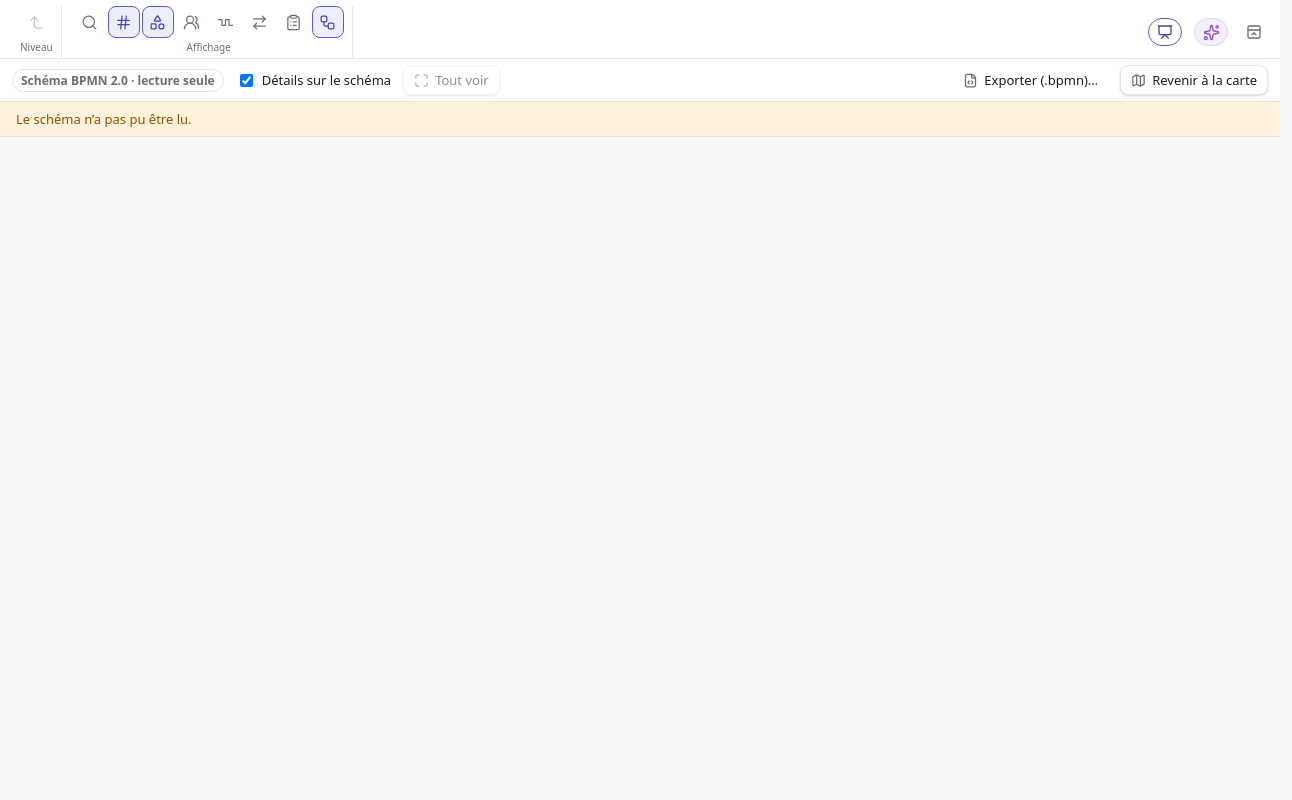
Scenario: a line leads to its step (ADR 112 point 5) › in the BPMN view, a line goes back to the map
Expected: the element with test id "bpmn-view" is shown, x1=0 y1=59 x2=1280 y2=137
Click the button with test id "ribbon-plan": (294, 22) x1=278 y1=6 x2=310 y2=38
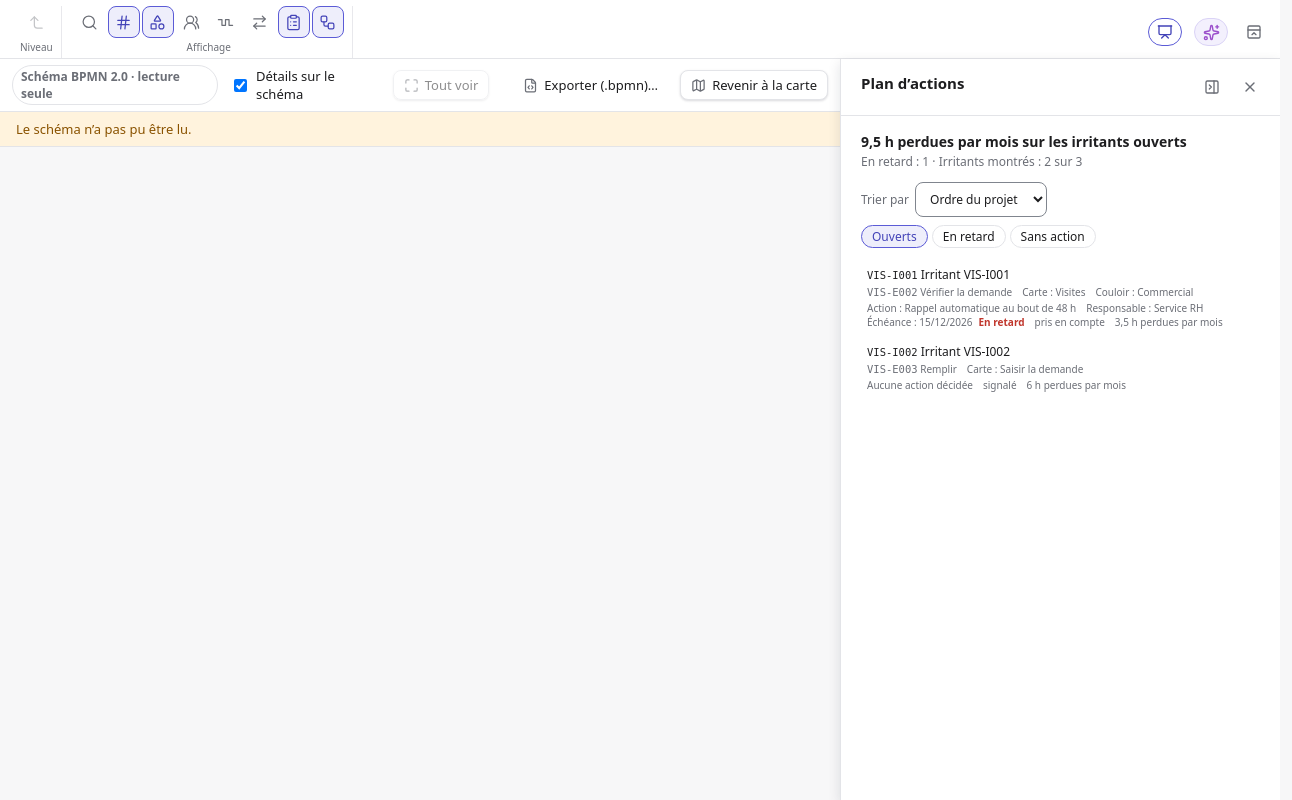
Click the button with aria-label "Aller à VIS-E002": (1060, 298) x1=861 y1=260 x2=1260 y2=335
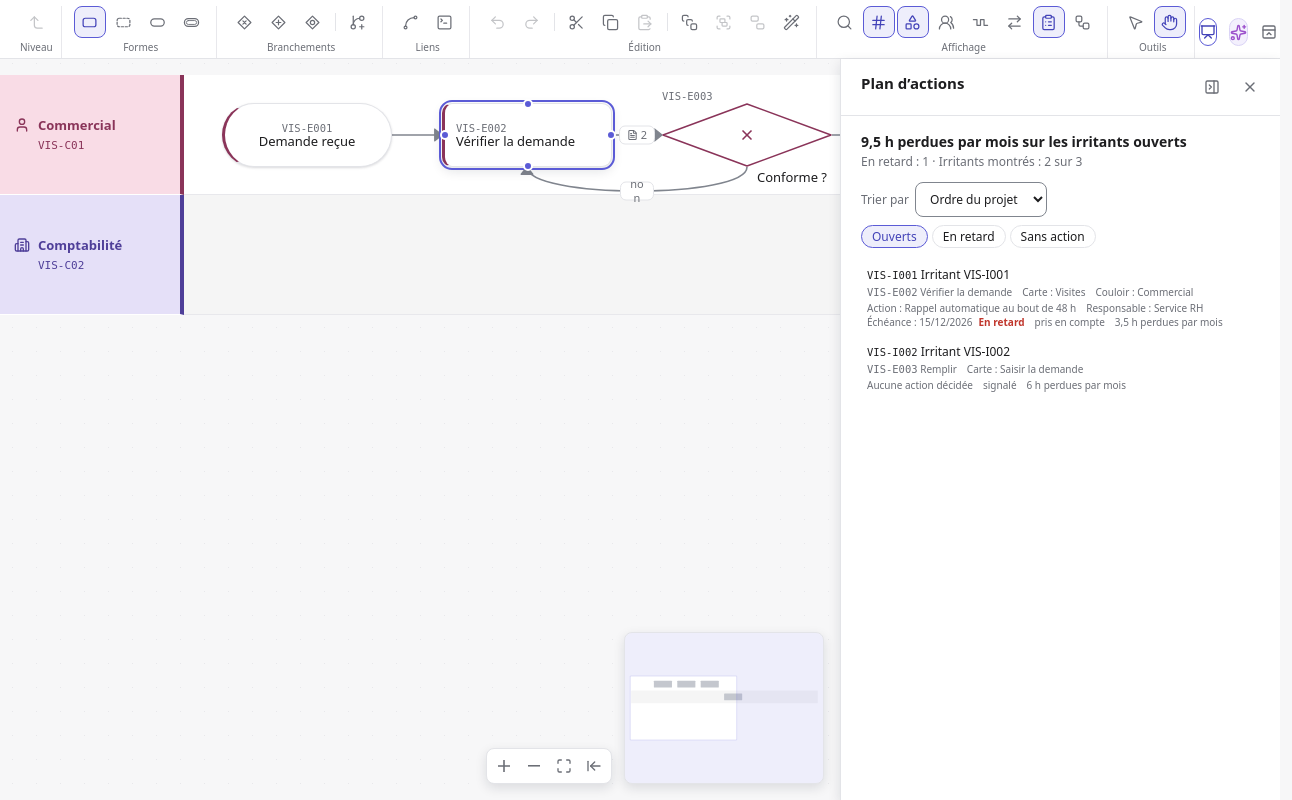
Now the element with test id "plan-panel" is shown, box x1=840 y1=59 x2=1280 y2=799
Now the element with test id "map-canvas" is shown
